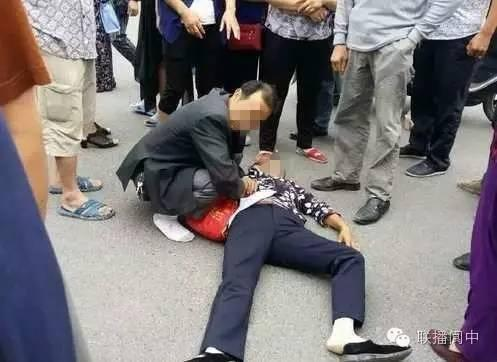10+: (1, 2, 495, 358)
down: (189, 138, 416, 359)
